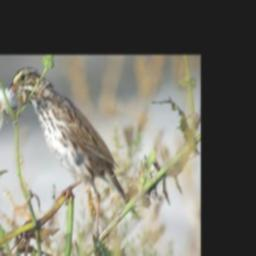Sparrow: (6, 65, 138, 217)
